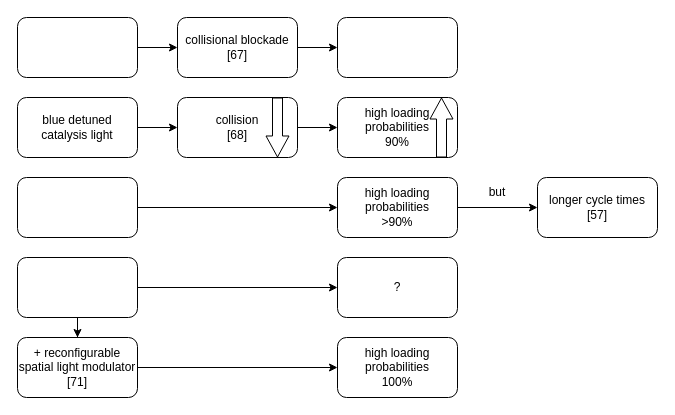
Image size: 675x415. Some labels were removed from this diagram. The centre of each missing label's shape, as x and y in pixels:
low loading probabilities 50%: (x=397, y=47)
normally: (x=77, y=47)
smaller array [70]: (x=77, y=287)
superfluid-Mott insulator transition: (x=77, y=207)
